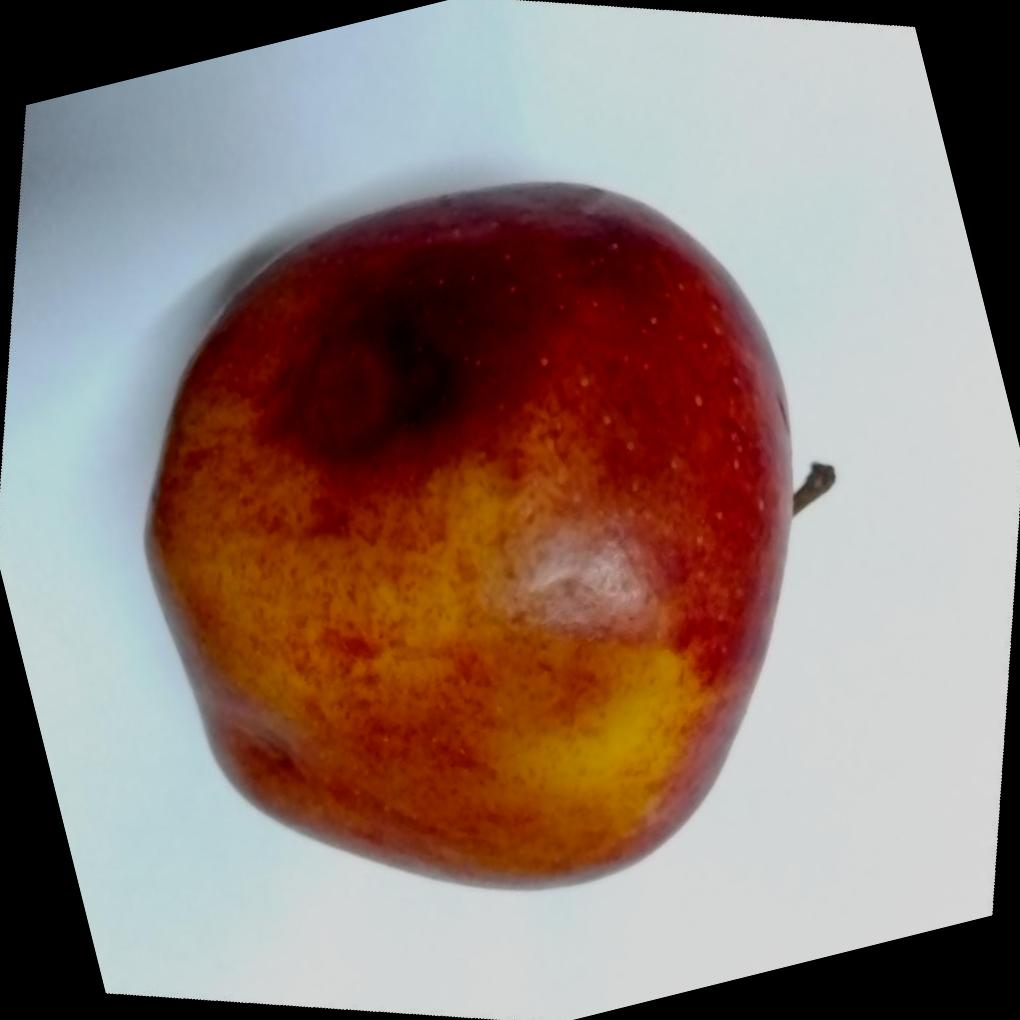FreshOrange: (140, 180, 802, 893)
